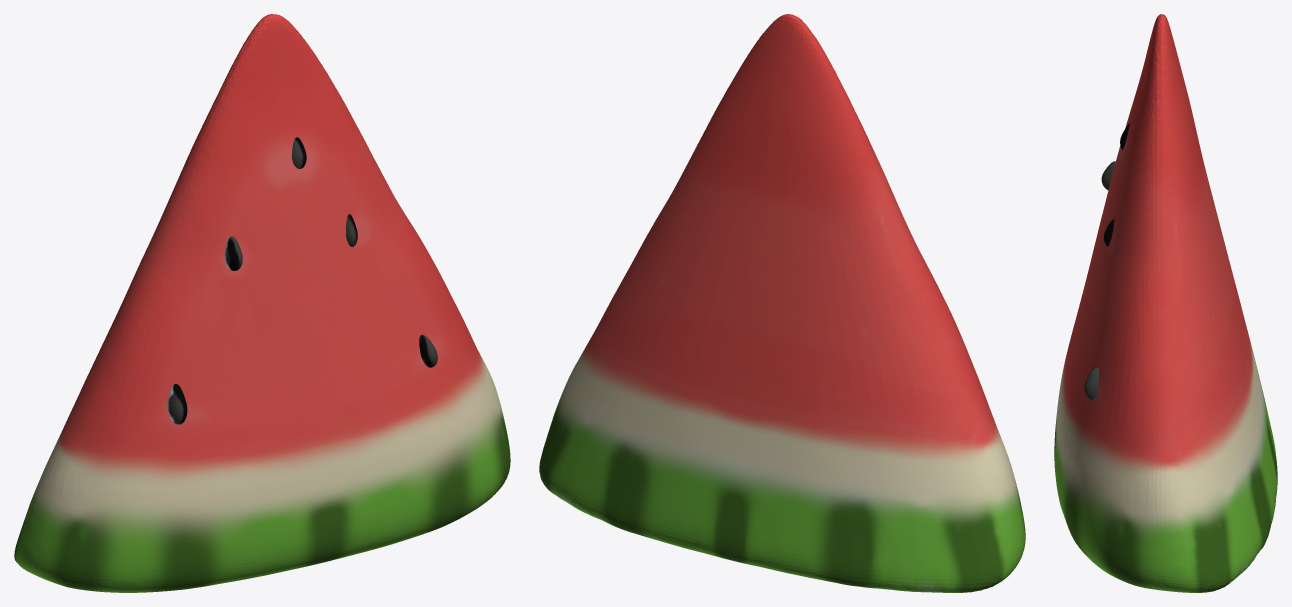
Rendered from watermeloningredient.fbx.
The picture shows the model from 3 angles, left to right: view 1: azimuth 30°, elevation 25°; view 2: azimuth 150°, elevation 25°; view 3: azimuth 270°, elevation 25°; orthographic projection. The views are drawn at different scales.
Visible parts, largest first — view 1: Cone, Quad Sphere.001; view 2: Cone; view 3: Cone, Quad Sphere.002.
Boxes of the visible parts, left/top/right/bottom form: Cone: left=14, top=14, right=510, bottom=592; Quad Sphere.001: left=167, top=384, right=187, bottom=424; Cone: left=539, top=14, right=1025, bottom=592; Cone: left=1054, top=14, right=1277, bottom=592; Quad Sphere.002: left=1084, top=367, right=1098, bottom=400.
Bounding box in the file's own units: 160 × 167 × 70.42.
